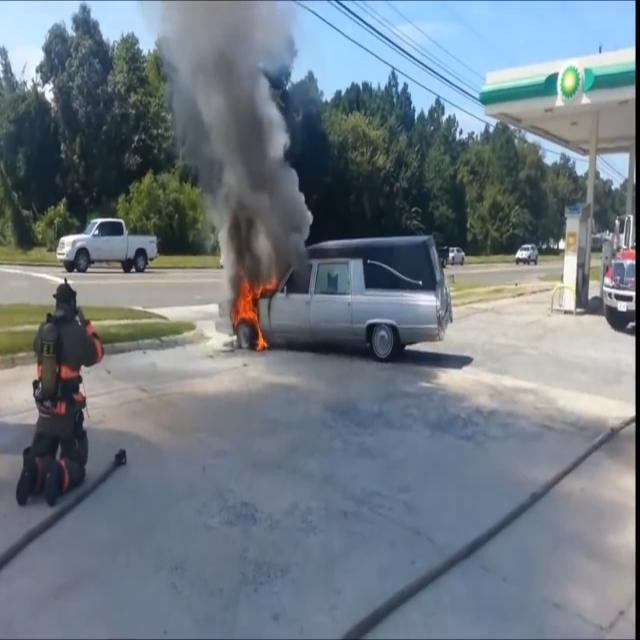fire: (228, 269, 282, 356)
